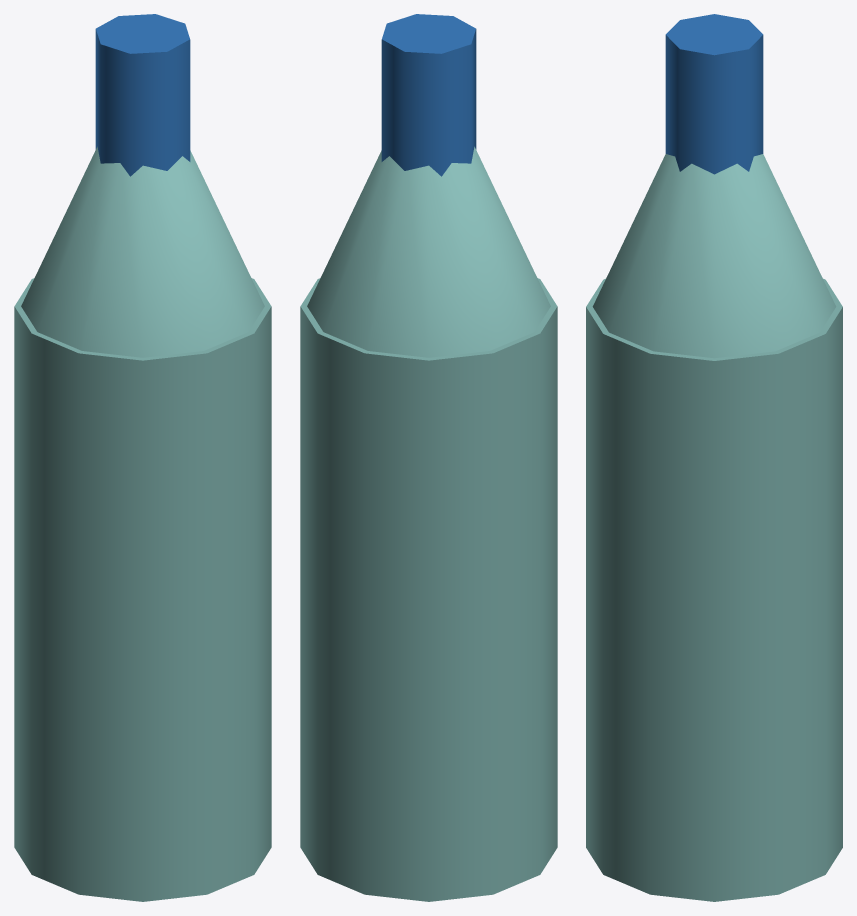
File: item_ramune.glb
3 renders of one model, left to right at view 1: azimuth 30°, elevation 25°; view 2: azimuth 150°, elevation 25°; view 3: azimuth 270°, elevation 25°, orthographic.
Visible parts, largest first — view 1: item_ramune; view 2: item_ramune; view 3: item_ramune.
Part boxes in pixels (x1,y1,x2,y2): item_ramune: (14, 14, 271, 901); item_ramune: (300, 14, 557, 901); item_ramune: (586, 14, 842, 901).
Size of the model in its own units: 0.064 by 0.2236 by 0.064.
